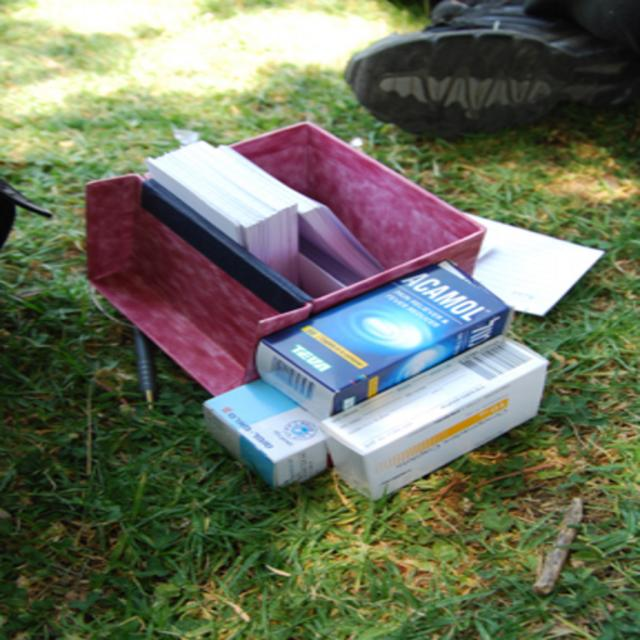Box: (84, 122, 487, 396), (256, 262, 500, 420), (324, 336, 549, 503), (207, 377, 329, 488)
